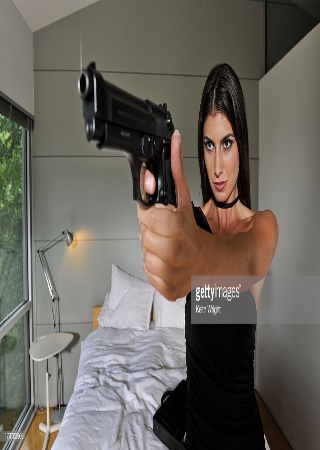handgun: (76, 57, 179, 209)
